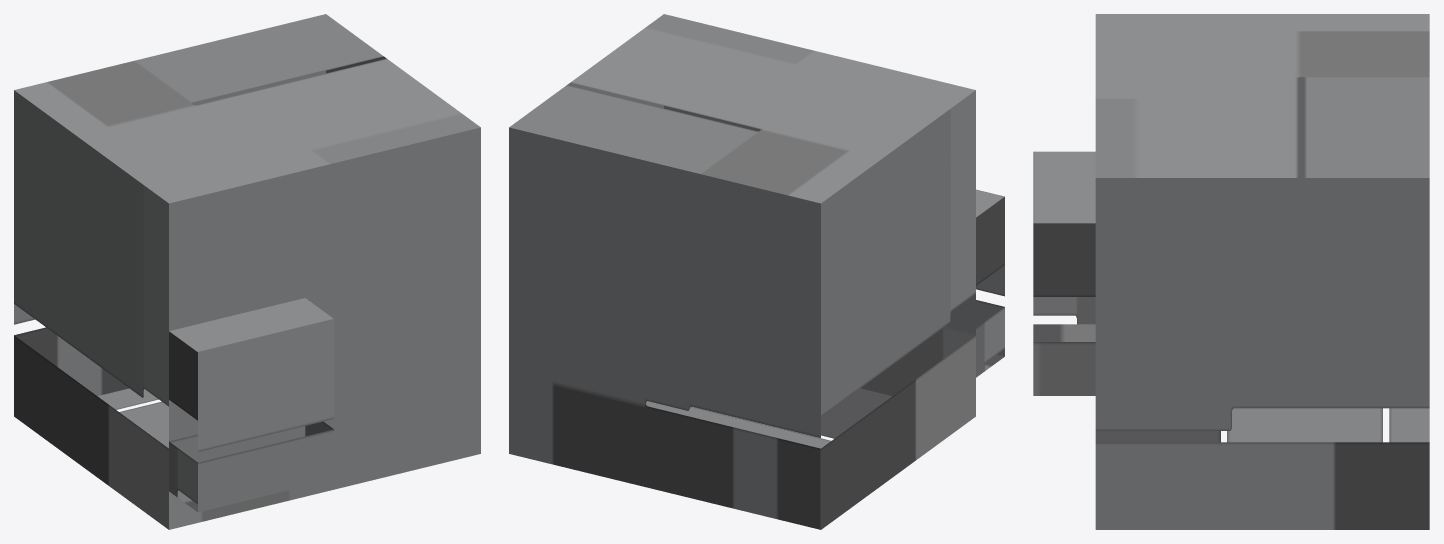
3 views of the same model, side by side, from view 1: azimuth 30°, elevation 25°; view 2: azimuth 150°, elevation 25°; view 3: azimuth 270°, elevation 25° (orthographic). The views are drawn at different scales.
Bounding box in the file's own units: 0.88 × 0.88 × 0.8984.
